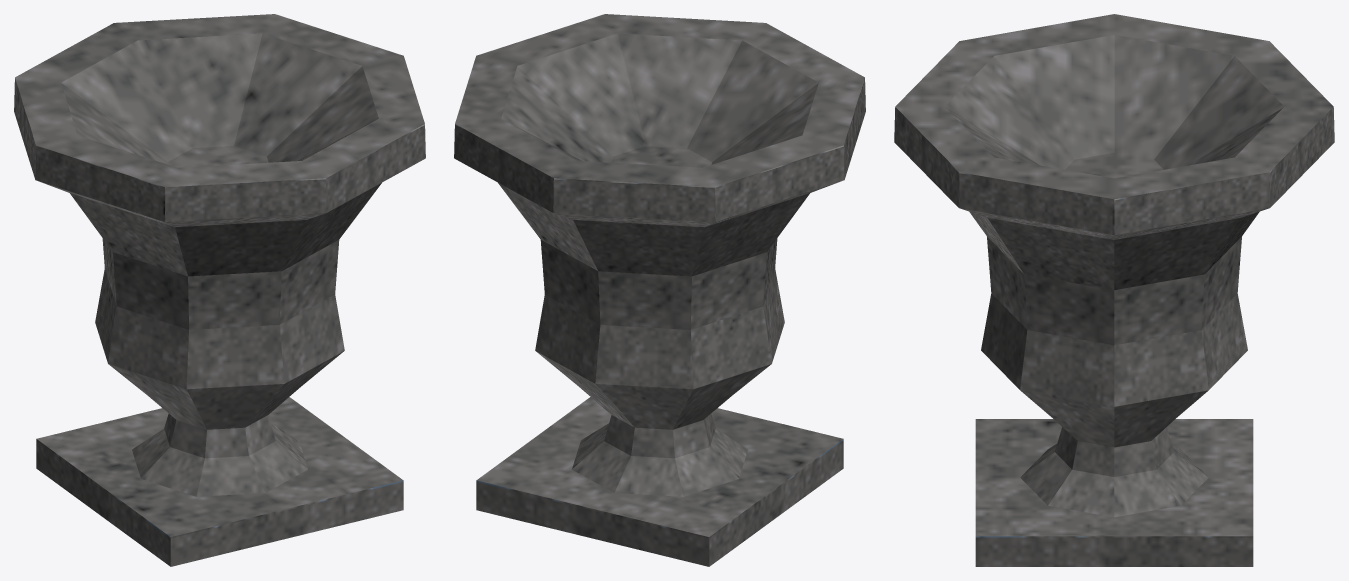
File: SM_Dungeon_Goblet.fbx
The picture shows the model from 3 angles, left to right: view 1: azimuth 30°, elevation 25°; view 2: azimuth 150°, elevation 25°; view 3: azimuth 270°, elevation 25°; orthographic projection. The views are drawn at different scales.
Visible parts, largest first — view 1: SM_Dungeon_Goblet; view 2: SM_Dungeon_Goblet; view 3: SM_Dungeon_Goblet.
Boxes of the visible parts, x1,y1,x2,y2 form: SM_Dungeon_Goblet: [14, 14, 425, 566]; SM_Dungeon_Goblet: [454, 14, 865, 566]; SM_Dungeon_Goblet: [894, 14, 1334, 566].
Bounding box in the file's own units: 73.07 × 73.5 × 73.07.
